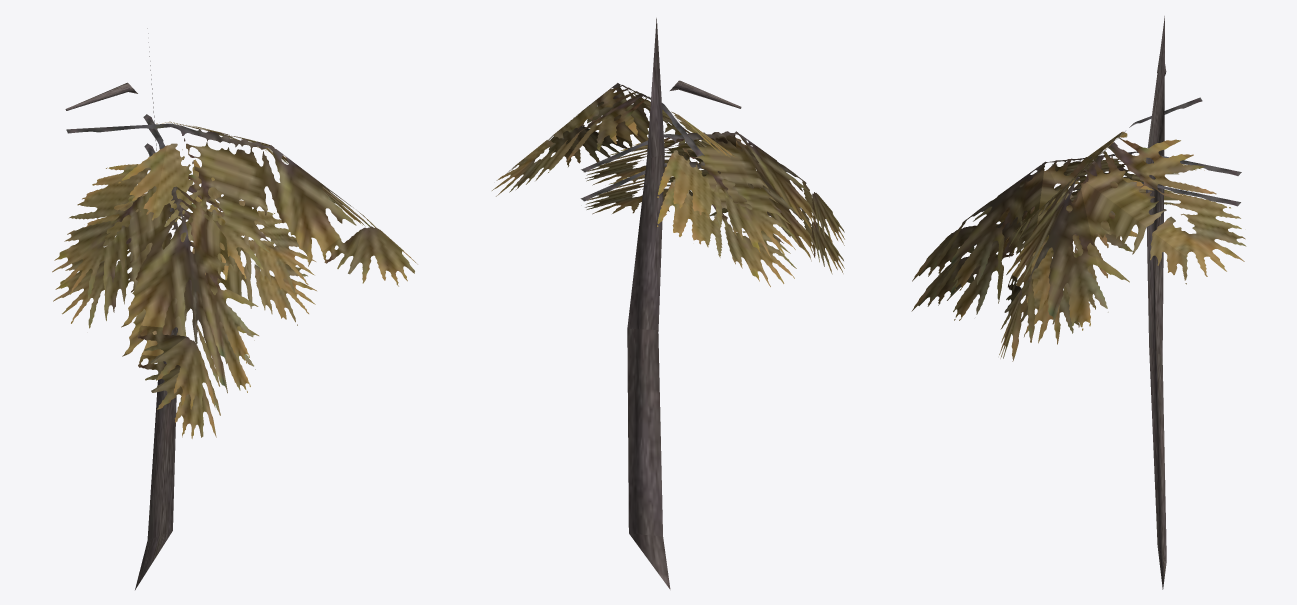
3 views of the same model, side by side, from view 1: azimuth 30°, elevation 25°; view 2: azimuth 150°, elevation 25°; view 3: azimuth 270°, elevation 25° (orthographic).
Parts seen in each view (by area): view 1: tree2; view 2: tree2; view 3: tree2.
Boxes of the visible parts, bbox=[...] form: tree2: bbox=[52, 28, 417, 589]; tree2: bbox=[492, 18, 844, 589]; tree2: bbox=[911, 16, 1246, 589].
Bounding box in the file's own units: 6.16 × 9.59 × 5.88.
Materials: 1 (1 with a texture image).
